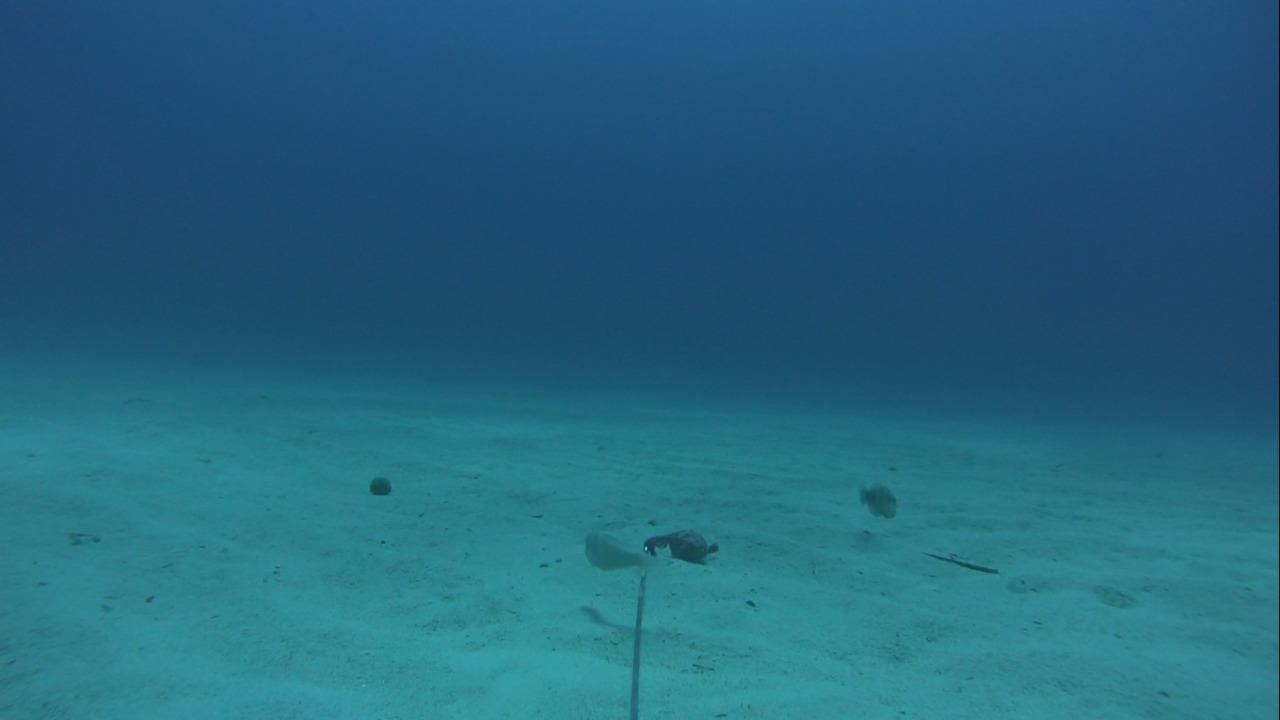raor: (575, 520, 672, 573), (850, 476, 900, 525)
